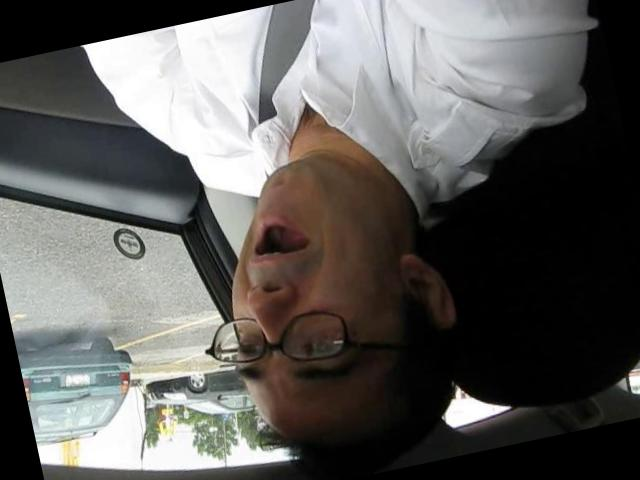eye_open: (285, 321, 351, 370), (232, 328, 272, 366)
face: (194, 145, 406, 414)
mouth_open: (240, 202, 318, 272)
